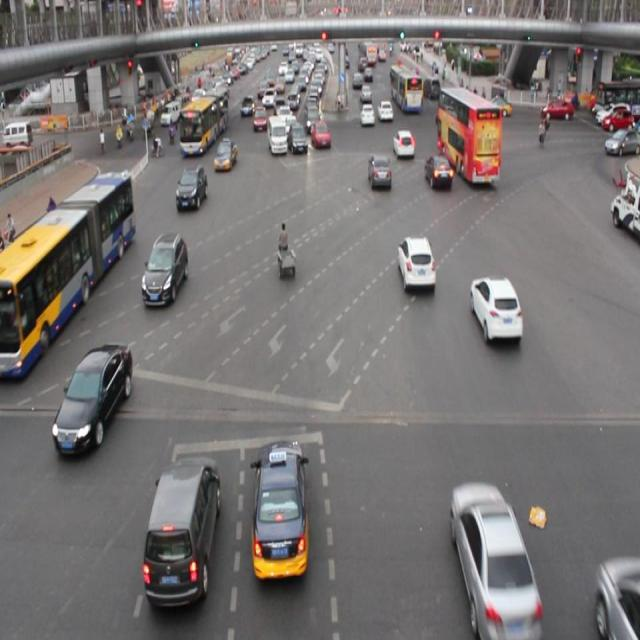car: (450, 482, 536, 640), (56, 342, 132, 454), (252, 445, 310, 574), (597, 556, 640, 640), (471, 276, 522, 340), (143, 232, 187, 304), (398, 234, 435, 291), (176, 167, 207, 211), (368, 152, 392, 191), (427, 155, 452, 192), (214, 135, 235, 168), (394, 128, 414, 160), (290, 123, 306, 157), (311, 122, 330, 146)
truck: (142, 458, 219, 604), (266, 116, 287, 154)
van: (0, 169, 134, 377), (440, 86, 500, 182), (182, 88, 230, 154)
